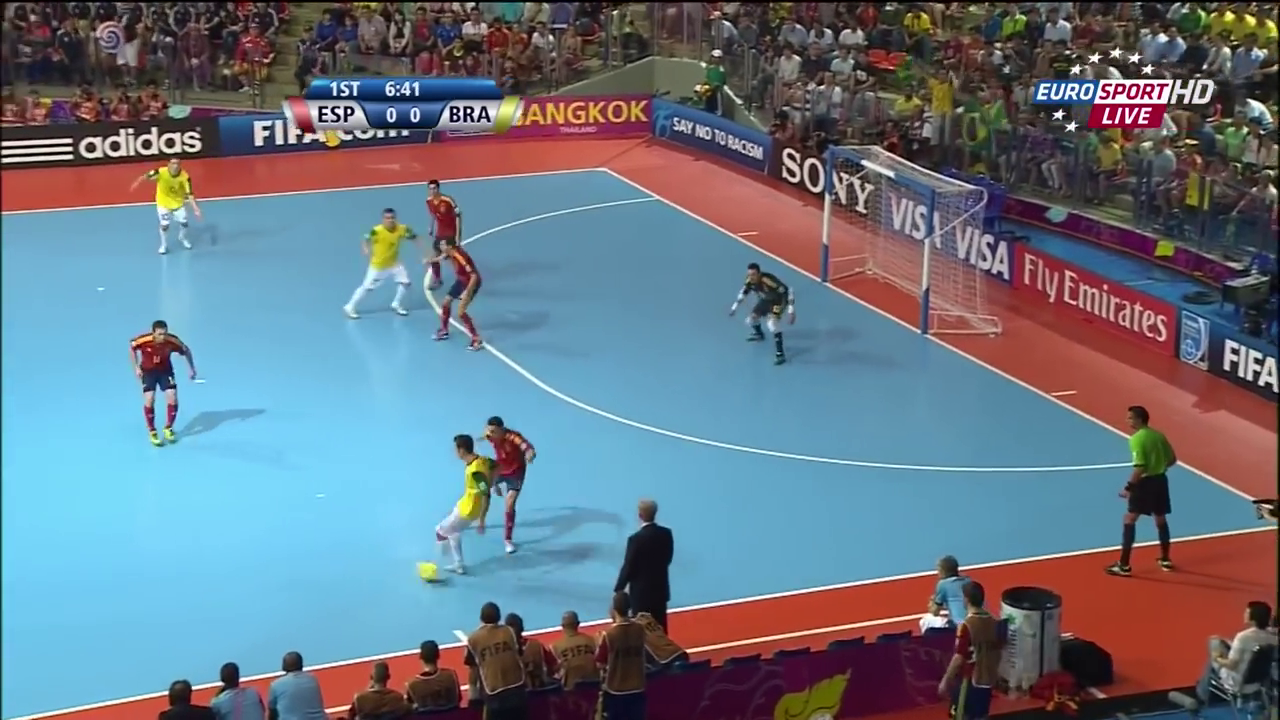ball: (417, 558, 438, 587)
person: (429, 434, 500, 584), (720, 252, 803, 369), (338, 204, 419, 322), (475, 411, 538, 553), (126, 320, 196, 446), (129, 149, 205, 255), (423, 235, 488, 349), (412, 175, 468, 296)
